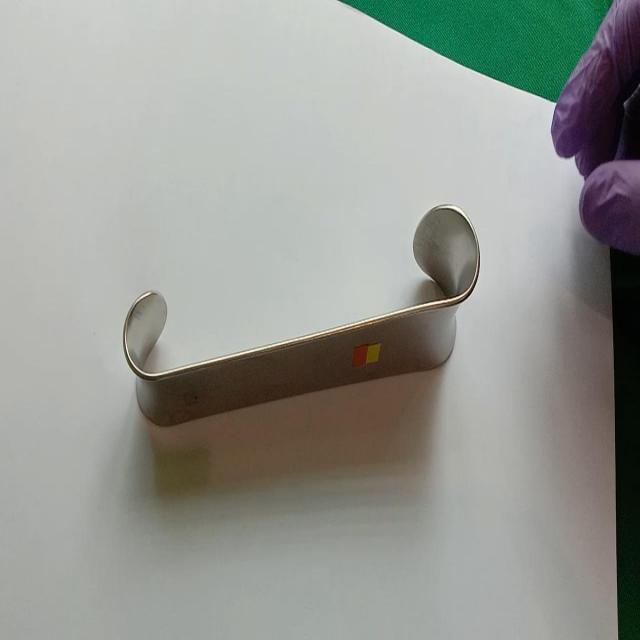CheekRetractor: (121, 200, 483, 433)
